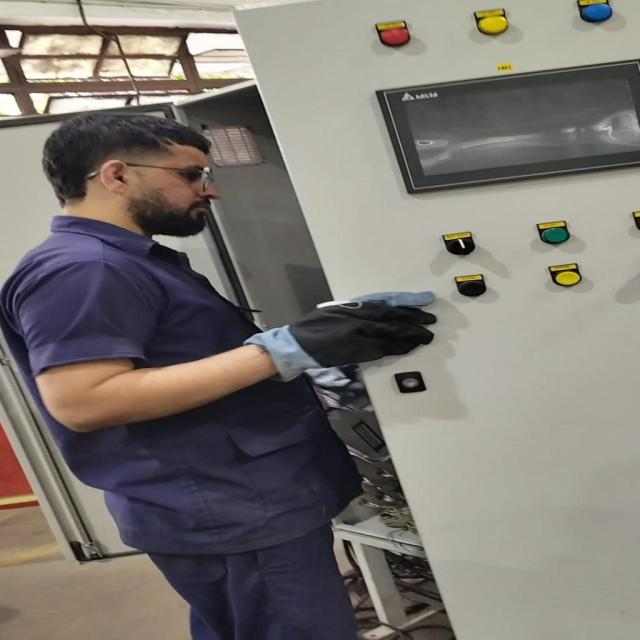Gloves-Detection: (241, 272, 445, 381)
